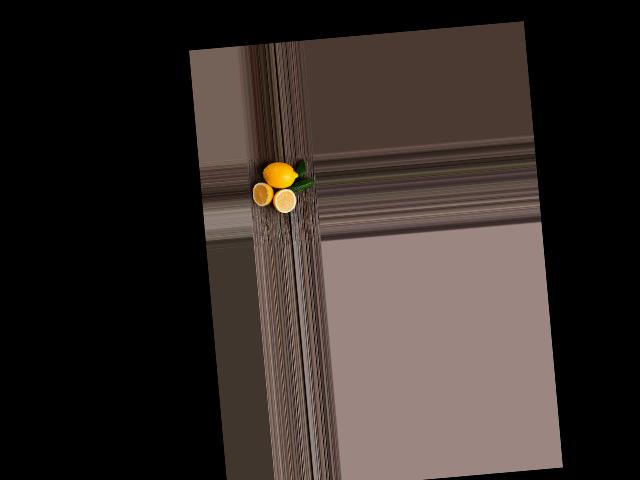lemon: (262, 162, 302, 191)
